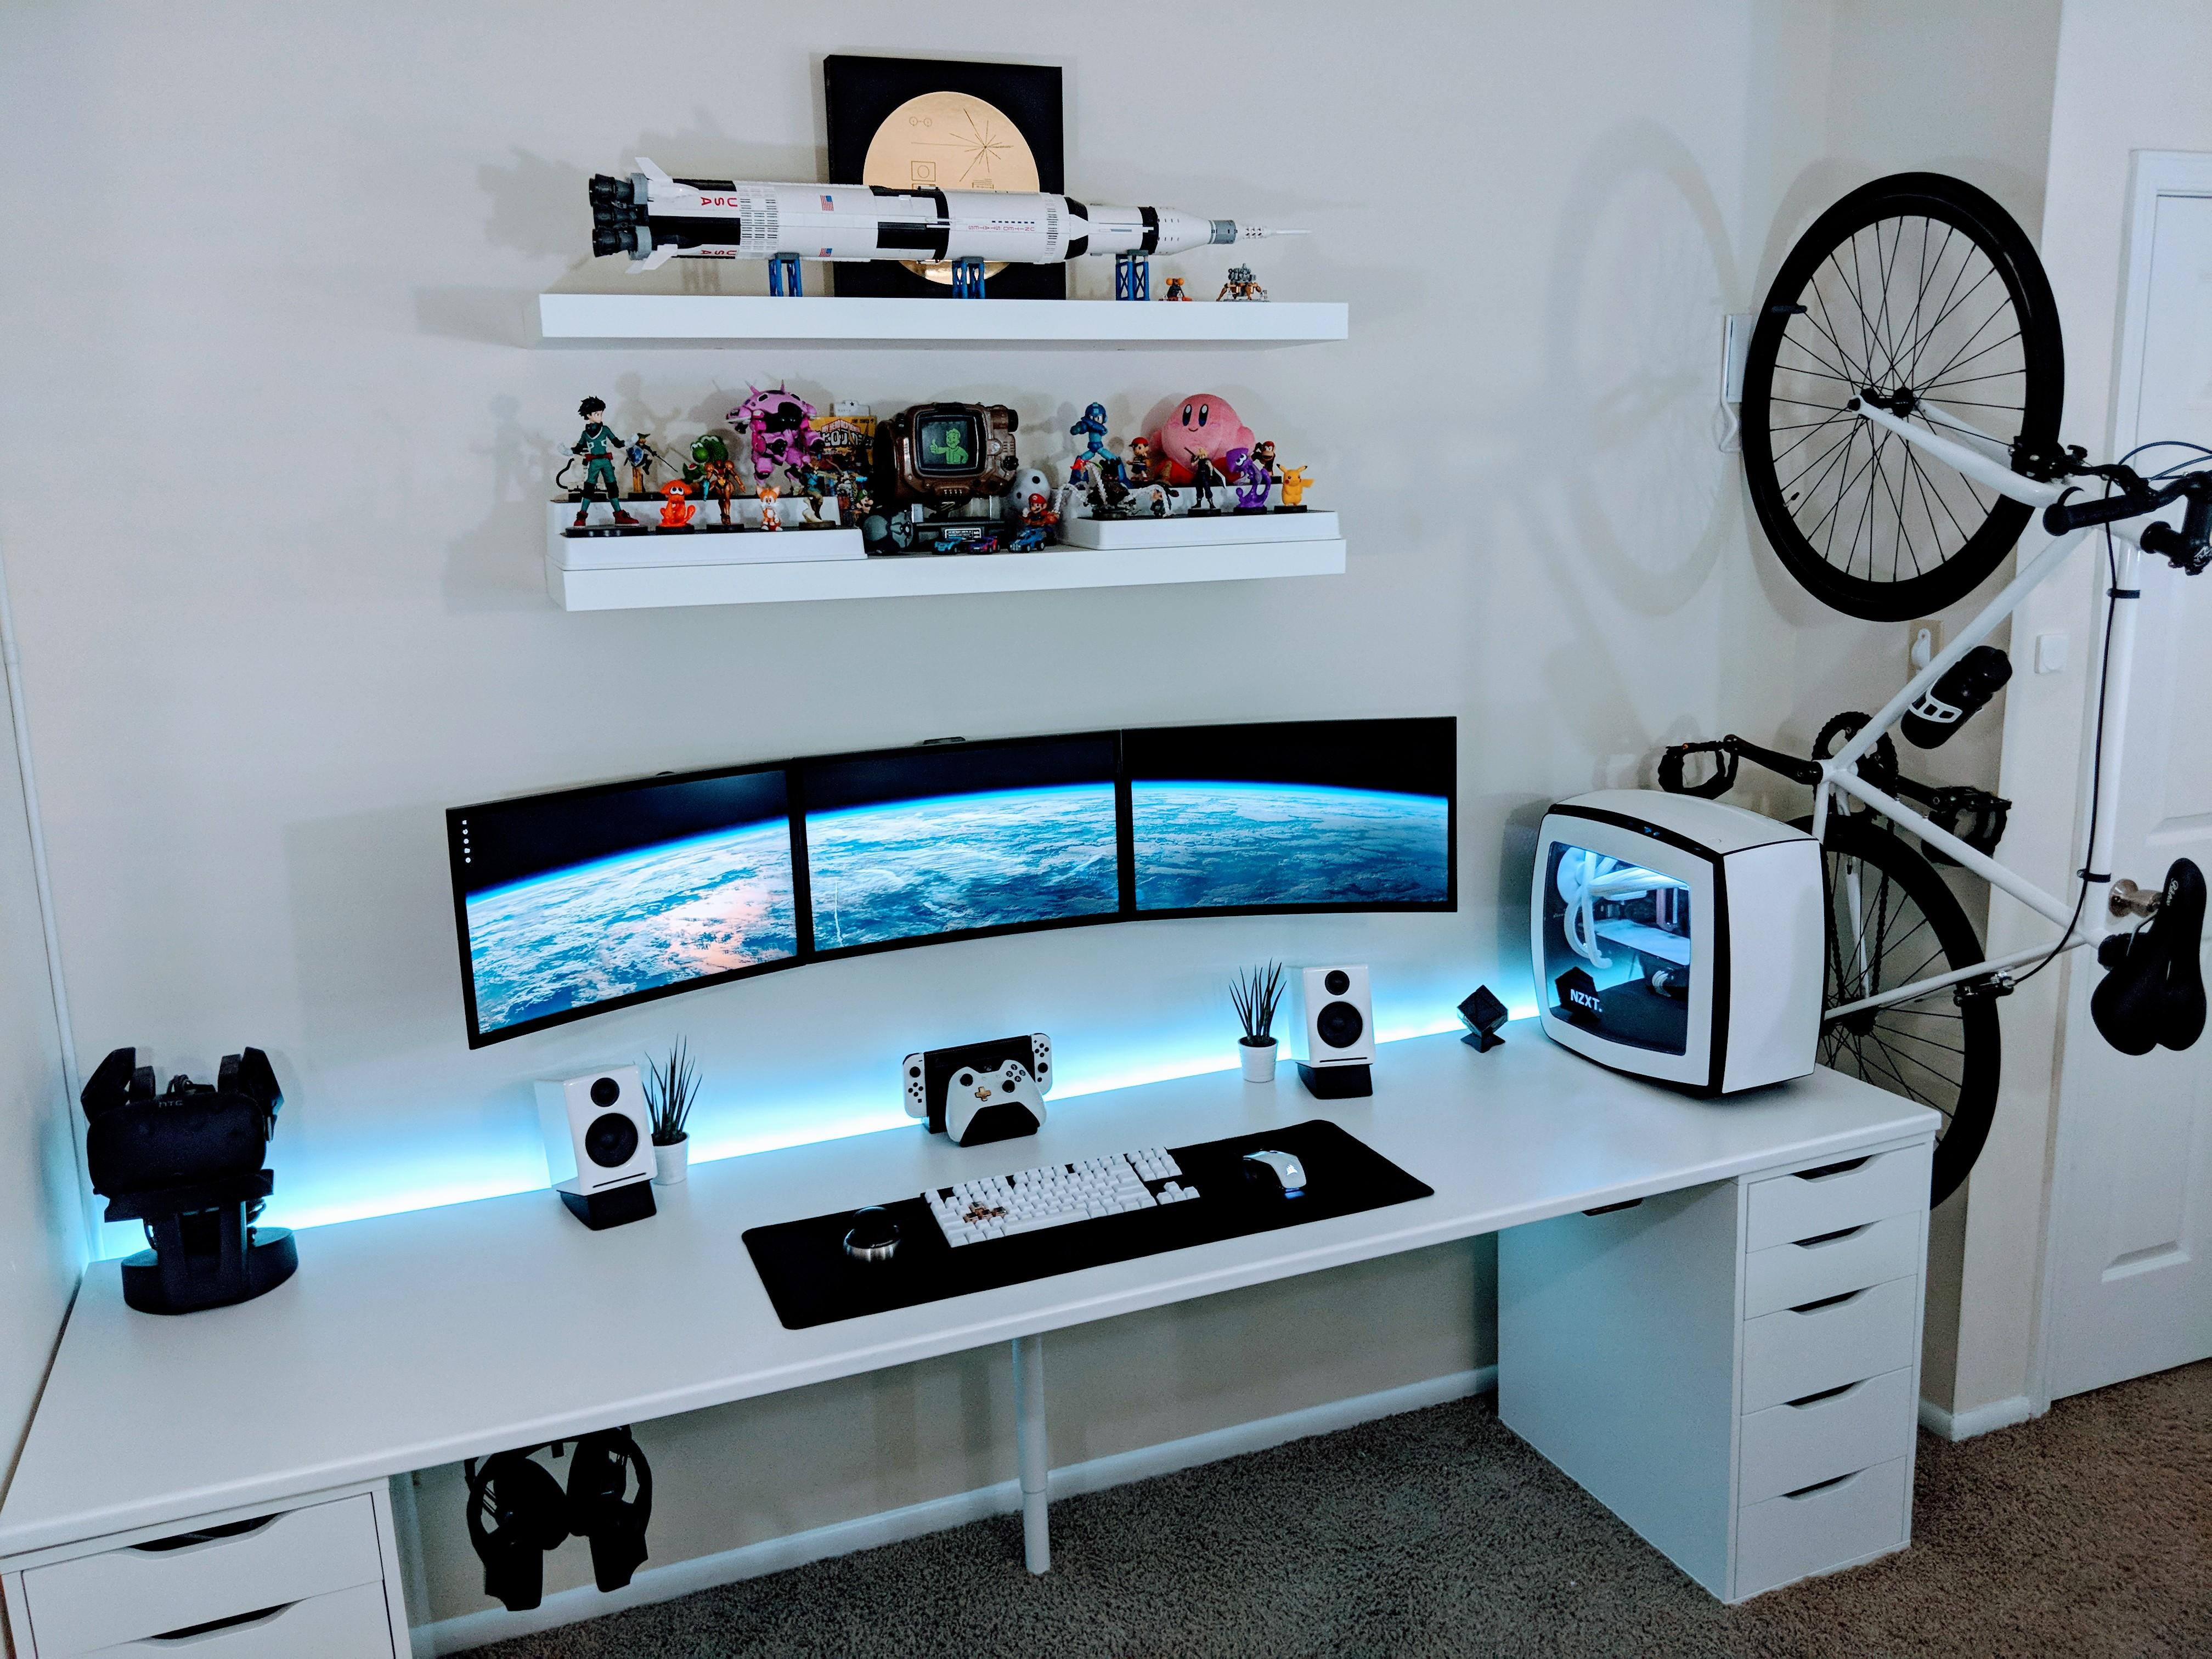Decoration (Generic): (552, 373, 1317, 558)
Decoration (Plant): (1224, 958, 1289, 1082)
Desk (Generic): (0, 1012, 1946, 1656)
Desktop (Generic): (1526, 788, 1829, 1103)
External Speakers (Subwoofers): (533, 1065, 658, 1223), (1285, 958, 1376, 1100)
Gaming Console: (904, 1032, 1054, 1119)
Gaming Controller: (948, 1060, 1049, 1140)
Headphones: (456, 1429, 655, 1610)
Keyboard (Generic): (921, 1145, 1207, 1249)
Mouse (Generic): (1238, 1140, 1312, 1201)
Mousepad (Gaming): (744, 1114, 1440, 1330)
